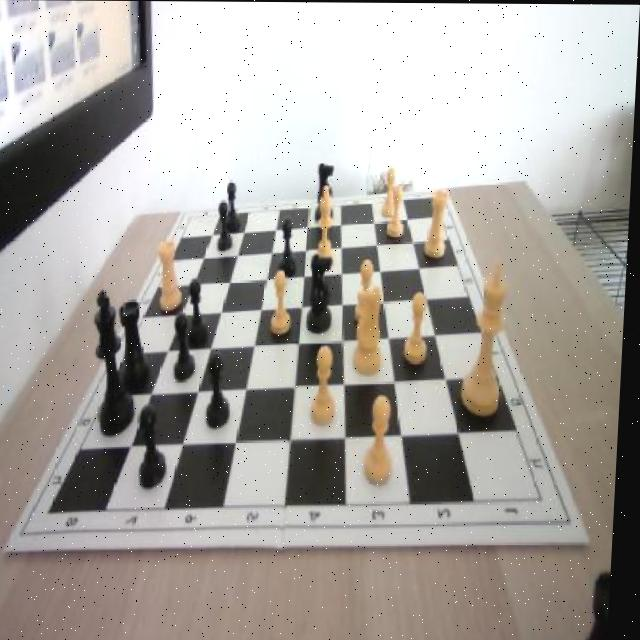black-bishop: (93, 291, 143, 436)
black-king: (307, 251, 339, 332), (316, 160, 340, 222)
black-knight: (142, 404, 174, 488), (207, 350, 236, 427), (176, 312, 203, 381), (189, 276, 214, 344), (280, 217, 300, 274), (219, 200, 237, 253), (226, 181, 243, 231)
black-queen: (121, 298, 156, 386)
black-rook: (313, 182, 343, 279)
white-bishop: (464, 255, 513, 415)
white-king: (352, 276, 395, 378)
white-knight: (367, 395, 403, 485), (310, 342, 345, 427), (405, 290, 436, 367), (357, 259, 384, 327), (272, 268, 296, 334), (388, 185, 408, 235), (382, 170, 402, 219)
white-queen: (157, 236, 186, 311), (427, 187, 453, 260)
